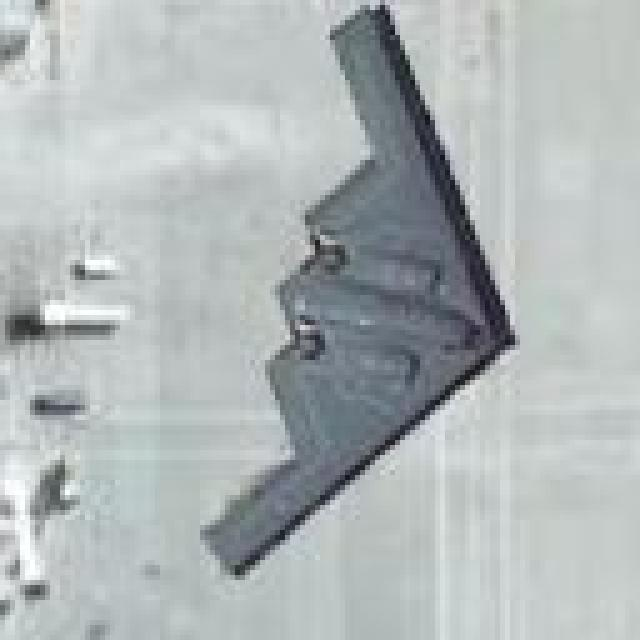B-2_TopDown: (195, 0, 520, 575)
